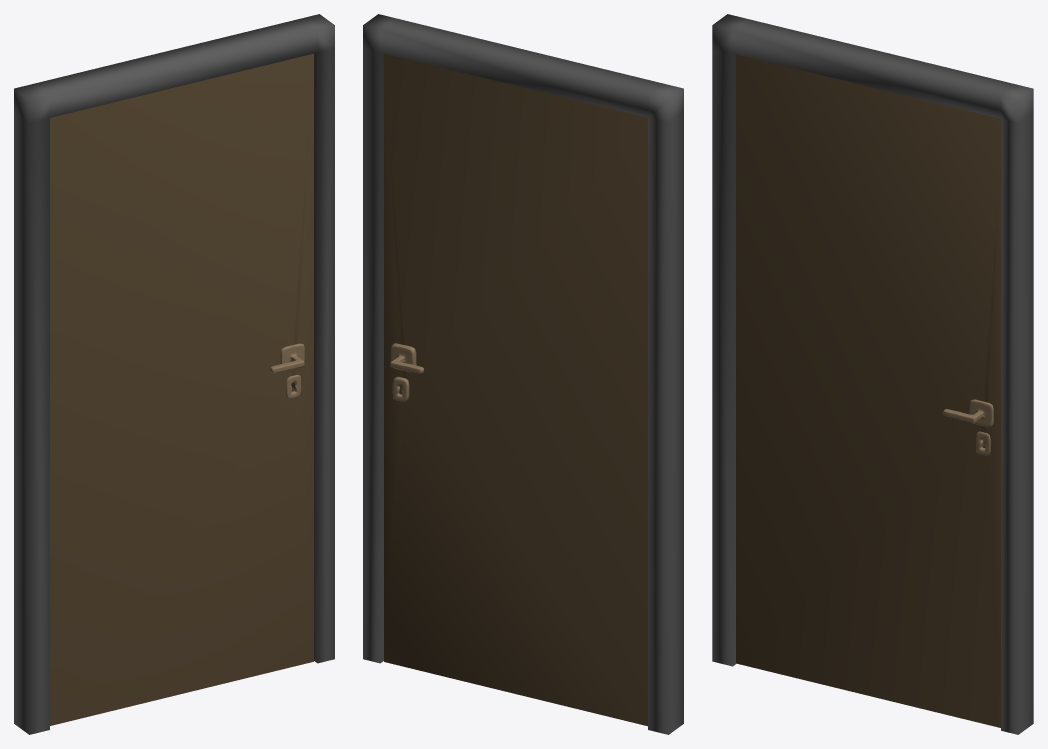
File: puerta.fbx
3 views of the same model, side by side, from view 1: azimuth 30°, elevation 25°; view 2: azimuth 150°, elevation 25°; view 3: azimuth 330°, elevation 25° (orthographic).
Visible parts, largest first — view 1: puerta, marco, manija; view 2: puerta, marco, manija1; view 3: puerta, marco, manija.
Part boxes in pixels (x1,y1,x2,y2): puerta: [50, 53, 313, 725]; marco: [14, 14, 334, 734]; manija: [270, 343, 304, 372]; puerta: [384, 53, 647, 726]; marco: [363, 14, 683, 734]; manija1: [390, 343, 424, 373]; puerta: [736, 54, 1000, 727]; marco: [712, 14, 1033, 734]; manija: [942, 399, 993, 427].
Bounding box in the file's own units: 1.26 × 2.5 × 0.2236.
